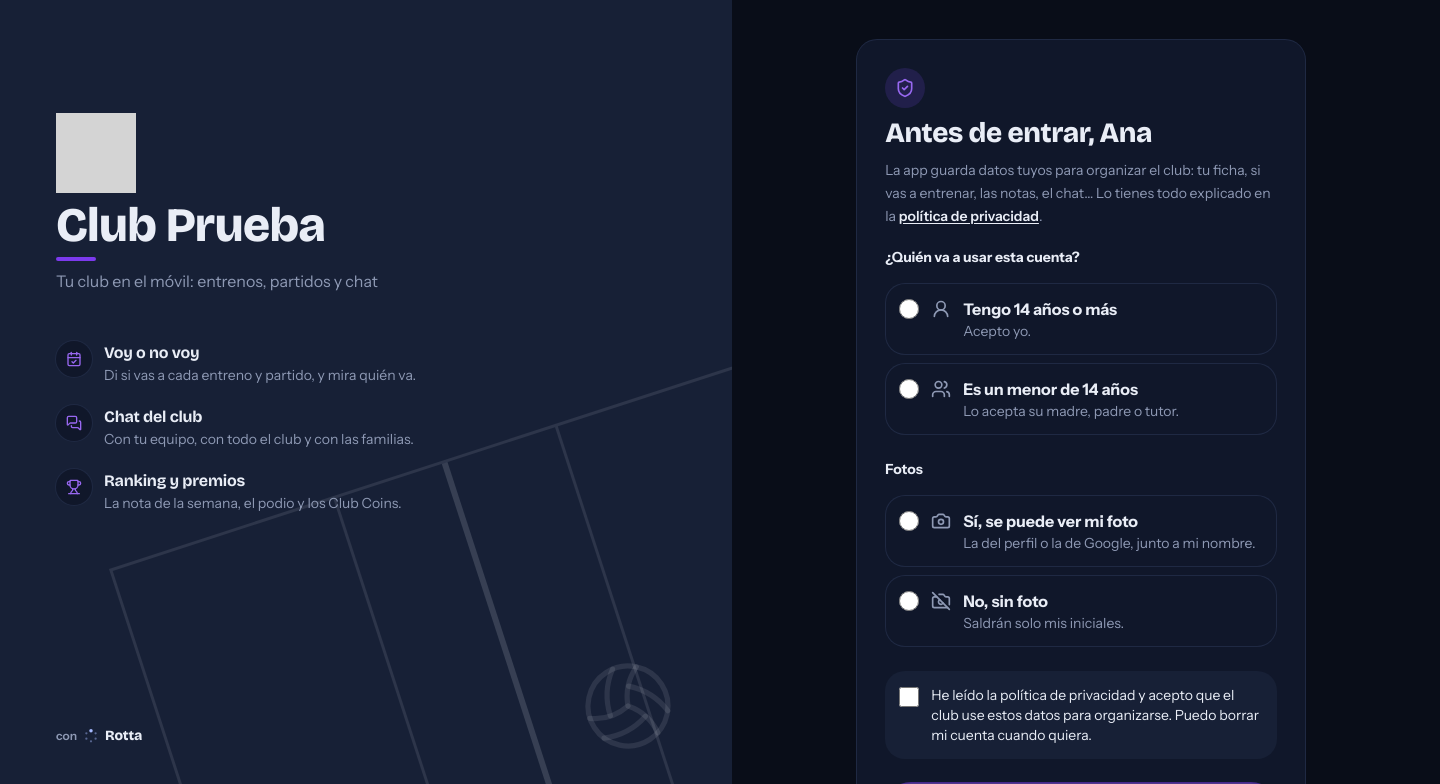
Scenario: ConsentPage › las opciones son radios nativos agrupados (se eligen con las flechas) y dice qué falta
Click the radio button labelled "Es un menor de 14 años Lo acepta su madre, padre o tutor." at x=909, y=389, box x1=899 y1=379 x2=919 y2=399
(page scrolled)
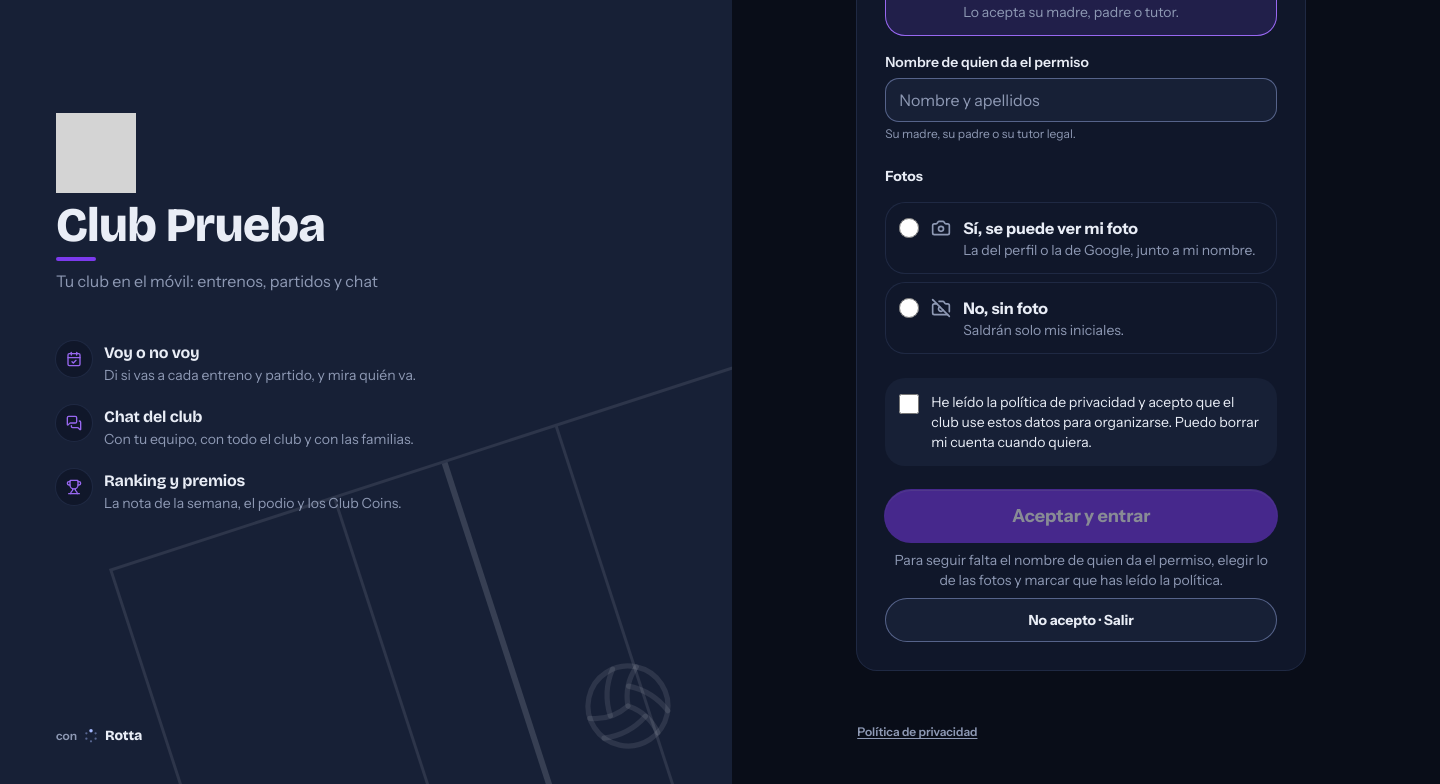
Expected: the text "el nombre de quien da el permiso" is shown, x1=939 y1=551 x2=1268 y2=589
